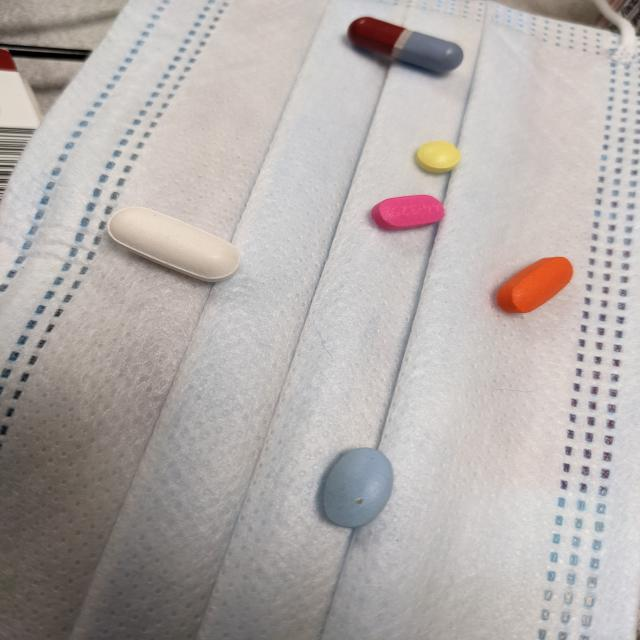non-organic waste: (105, 205, 242, 284), (346, 16, 466, 75), (321, 446, 394, 530), (494, 255, 574, 314), (370, 194, 446, 232), (414, 140, 461, 174)
